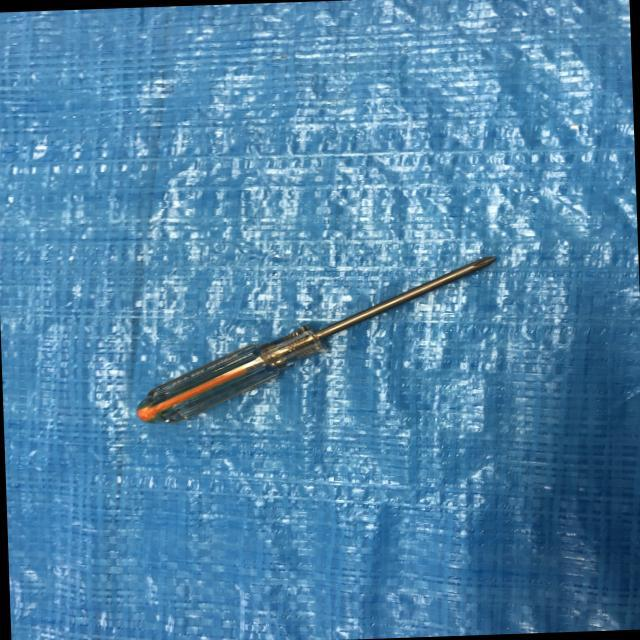screwdriver: (118, 248, 491, 429)
